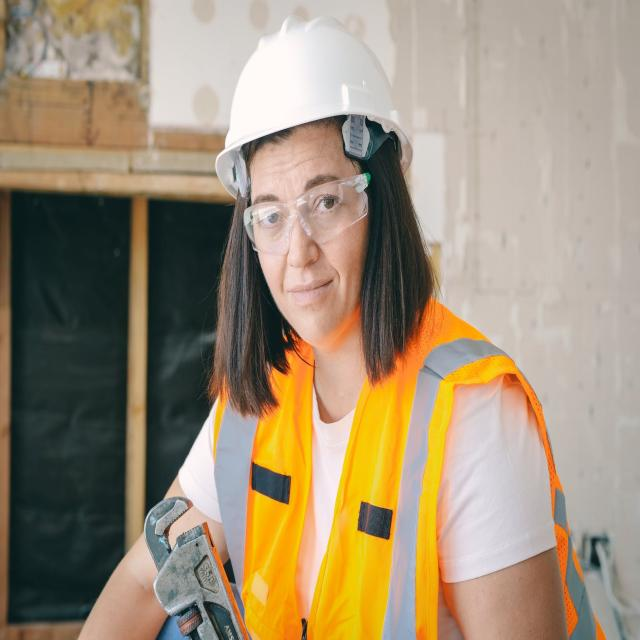Hard Hat: (204, 12, 420, 205)
Reflective Vest: (161, 273, 585, 635)
Safety Glasses: (240, 160, 380, 250)
